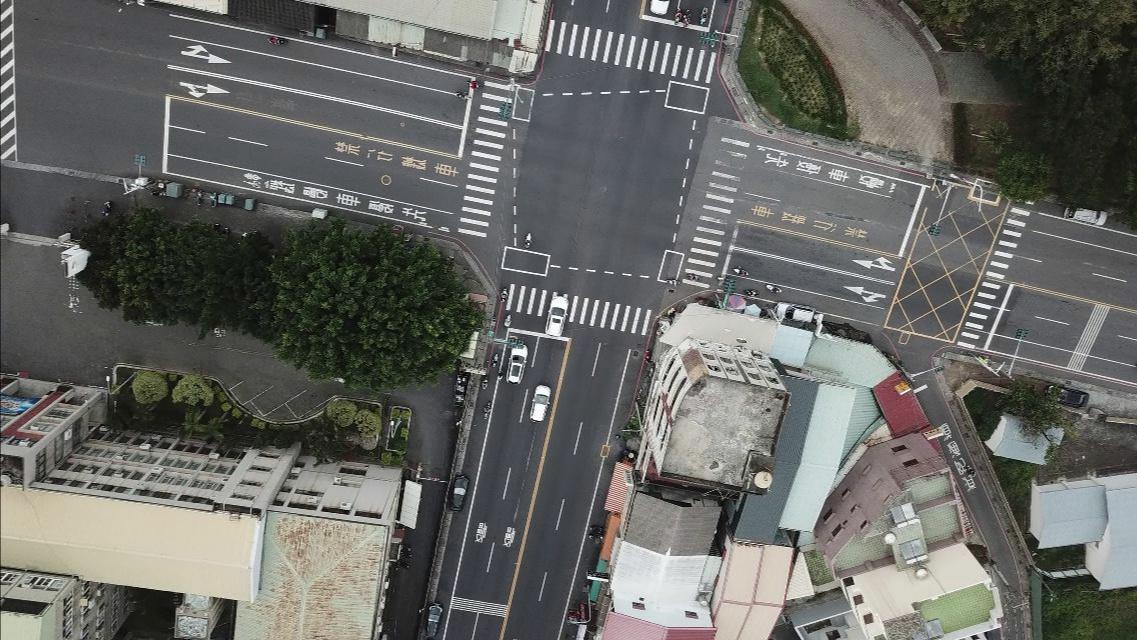vehicle: (773, 300, 824, 325), (543, 294, 569, 340), (1044, 384, 1089, 407), (529, 383, 552, 422), (507, 344, 529, 384), (448, 474, 470, 514), (423, 601, 443, 637)
